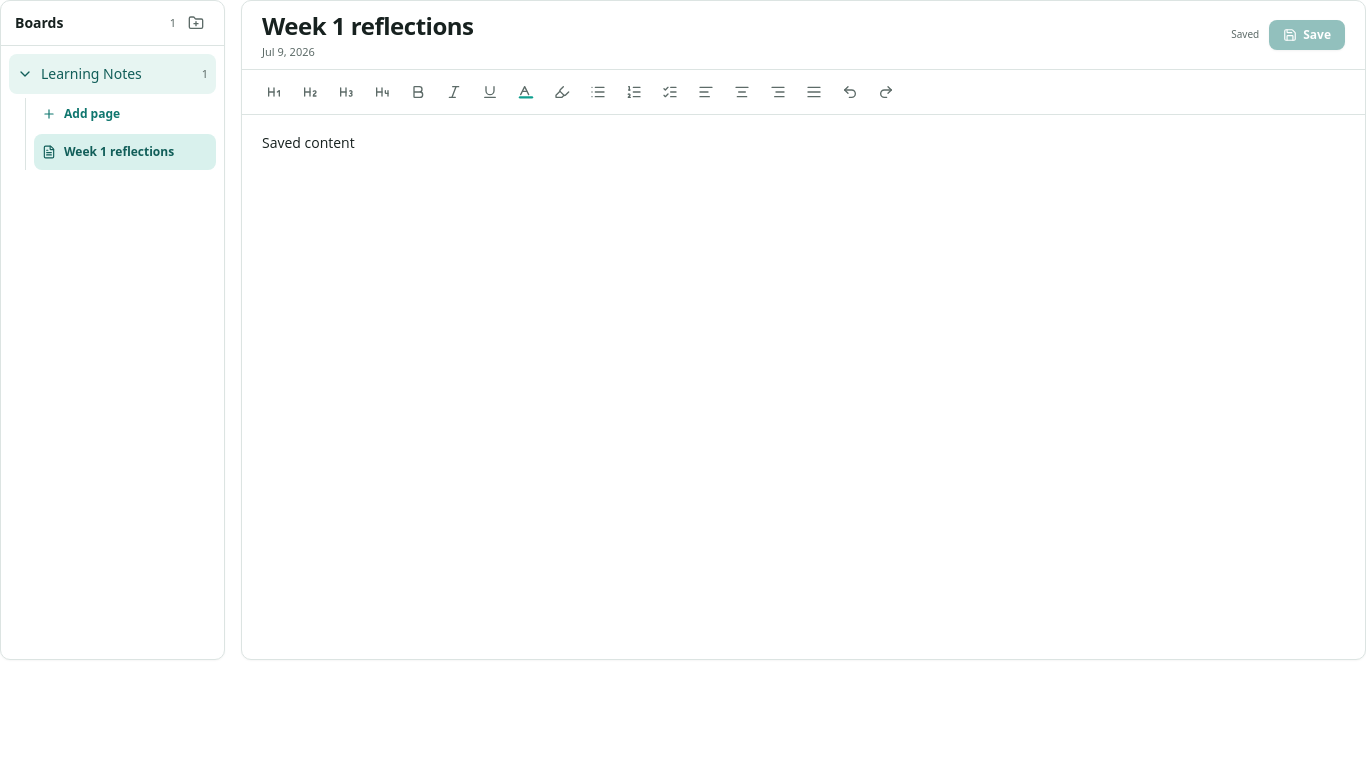
NotesPage › keeps the formatting toolbar in the editor header and the note canvas borderless
Click the button named "Bold": click(418, 92) [402,76,434,108]
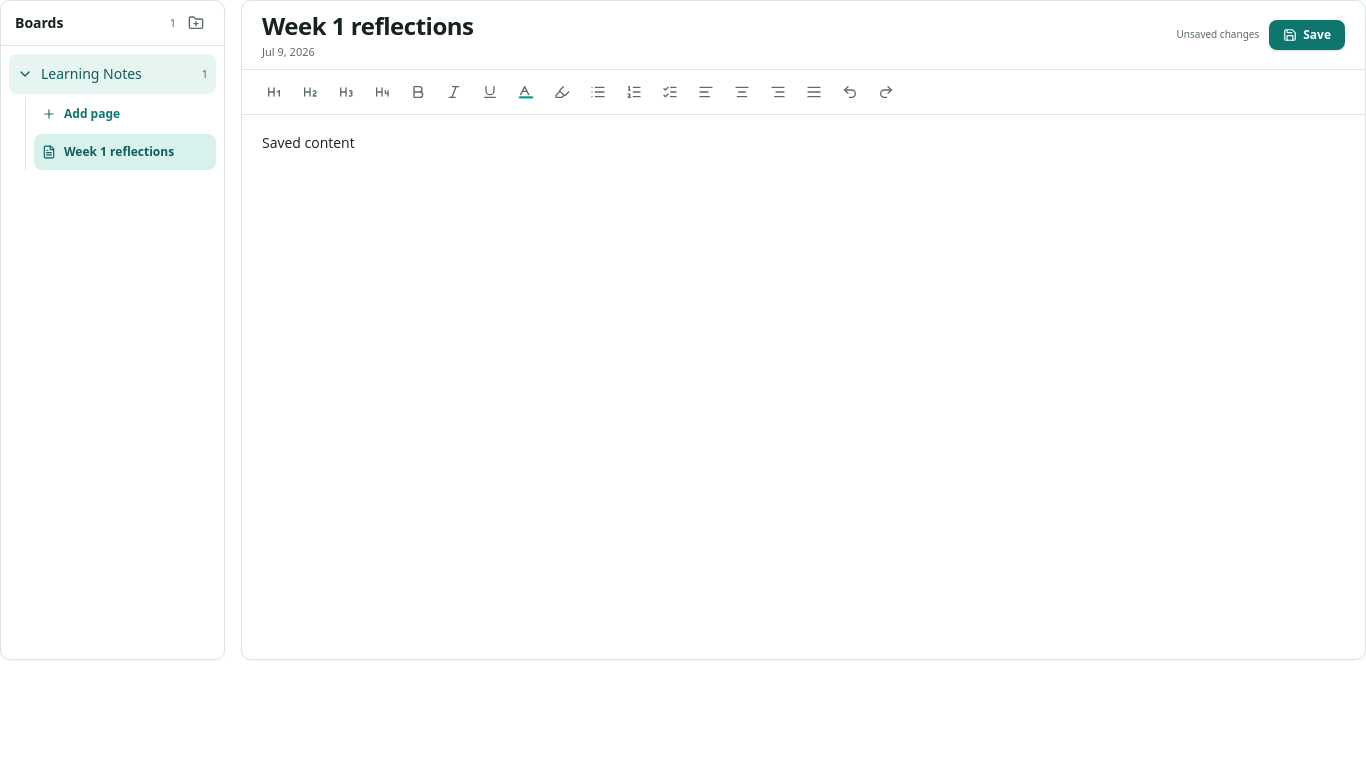
Check: the text with test id "note-save-status" reads "Unsaved changes", box [1176,27,1259,41]
